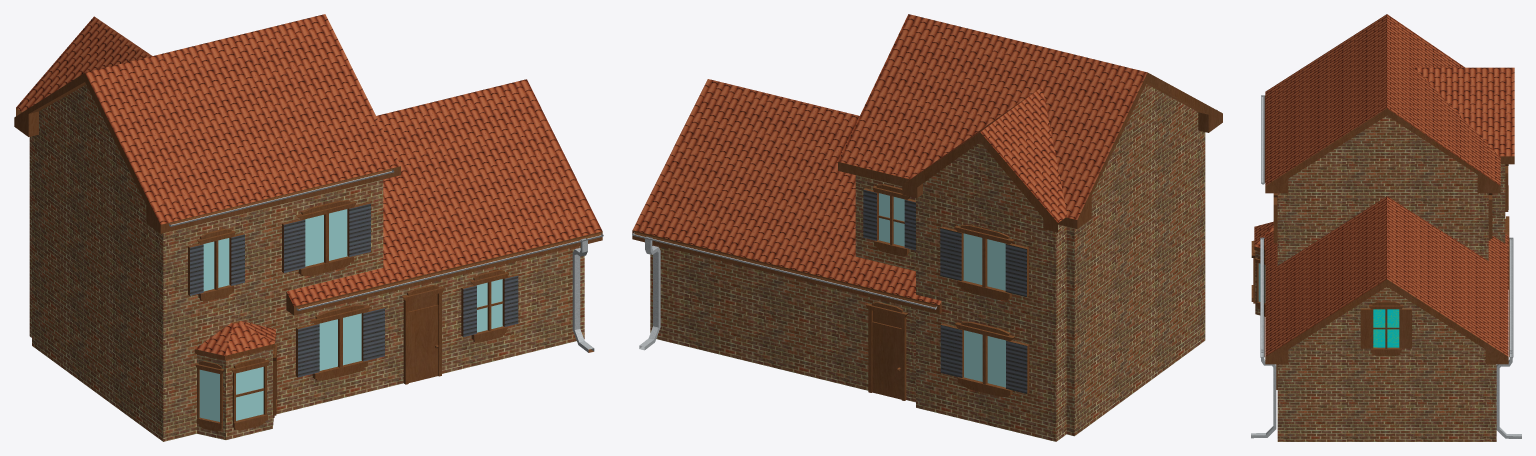
File: house_4.dae
3 renders of one model, left to right at view 1: azimuth 30°, elevation 25°; view 2: azimuth 150°, elevation 25°; view 3: azimuth 270°, elevation 25°, orthographic. The views are drawn at different scales.
Visible parts, largest first — view 1: SketchUp (×32); view 2: SketchUp (×24); view 3: SketchUp (×17).
Boxes of the visible parts, x1,y1,x2,y2 form: SketchUp (×32): (14,14,603,441); SketchUp (×24): (632,14,1222,441); SketchUp (×17): (1251,14,1521,441).
Size of the model in its own units: 346 by 229 by 241.
